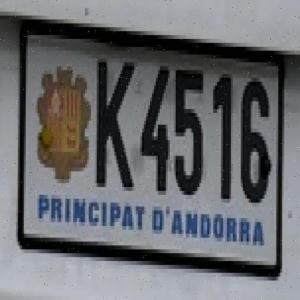Plate: (12, 12, 291, 300)
